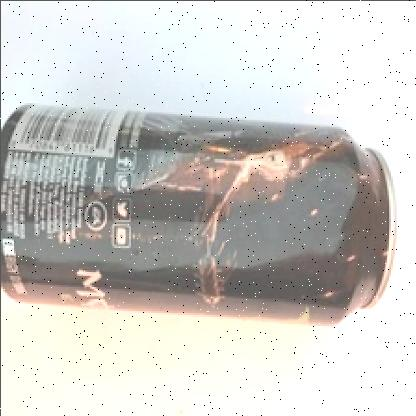Can: (1, 94, 410, 342)
